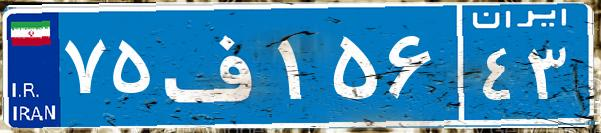1: (273, 28, 330, 110)
3: (525, 38, 570, 115)
4: (475, 38, 525, 113)
5: (330, 28, 385, 110), (110, 28, 158, 105)
6: (385, 28, 445, 110)
7: (57, 26, 110, 107)
ف: (158, 15, 273, 115)
